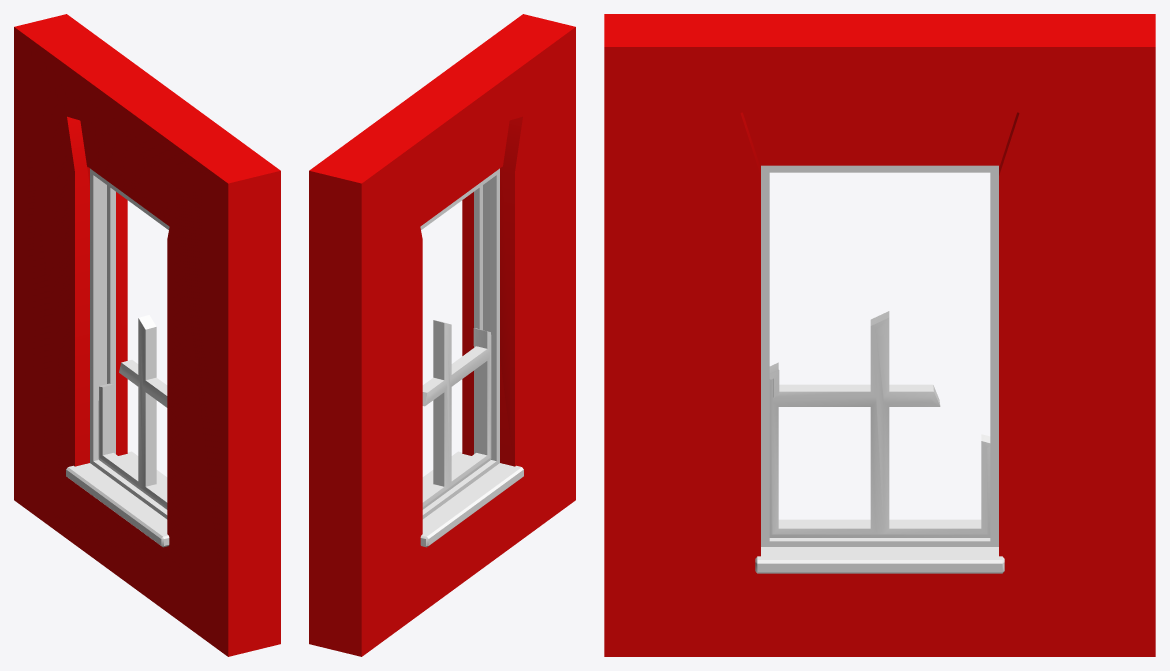
File: Ruins_Wall_A.fbx
3 views of the same model, side by side, from view 1: azimuth 30°, elevation 25°; view 2: azimuth 150°, elevation 25°; view 3: azimuth 270°, elevation 25° (orthographic). The views are drawn at different scales.
Parts seen in each view (by area): view 1: Ruins_Wall_A; view 2: Ruins_Wall_A; view 3: Ruins_Wall_A.
Boxes of the visible parts, x1,y1,x2,y2 form: Ruins_Wall_A: [14, 14, 280, 656]; Ruins_Wall_A: [309, 14, 575, 656]; Ruins_Wall_A: [604, 14, 1155, 656].
Bounding box in the file's own units: 0.1822 × 1.22 × 1.
